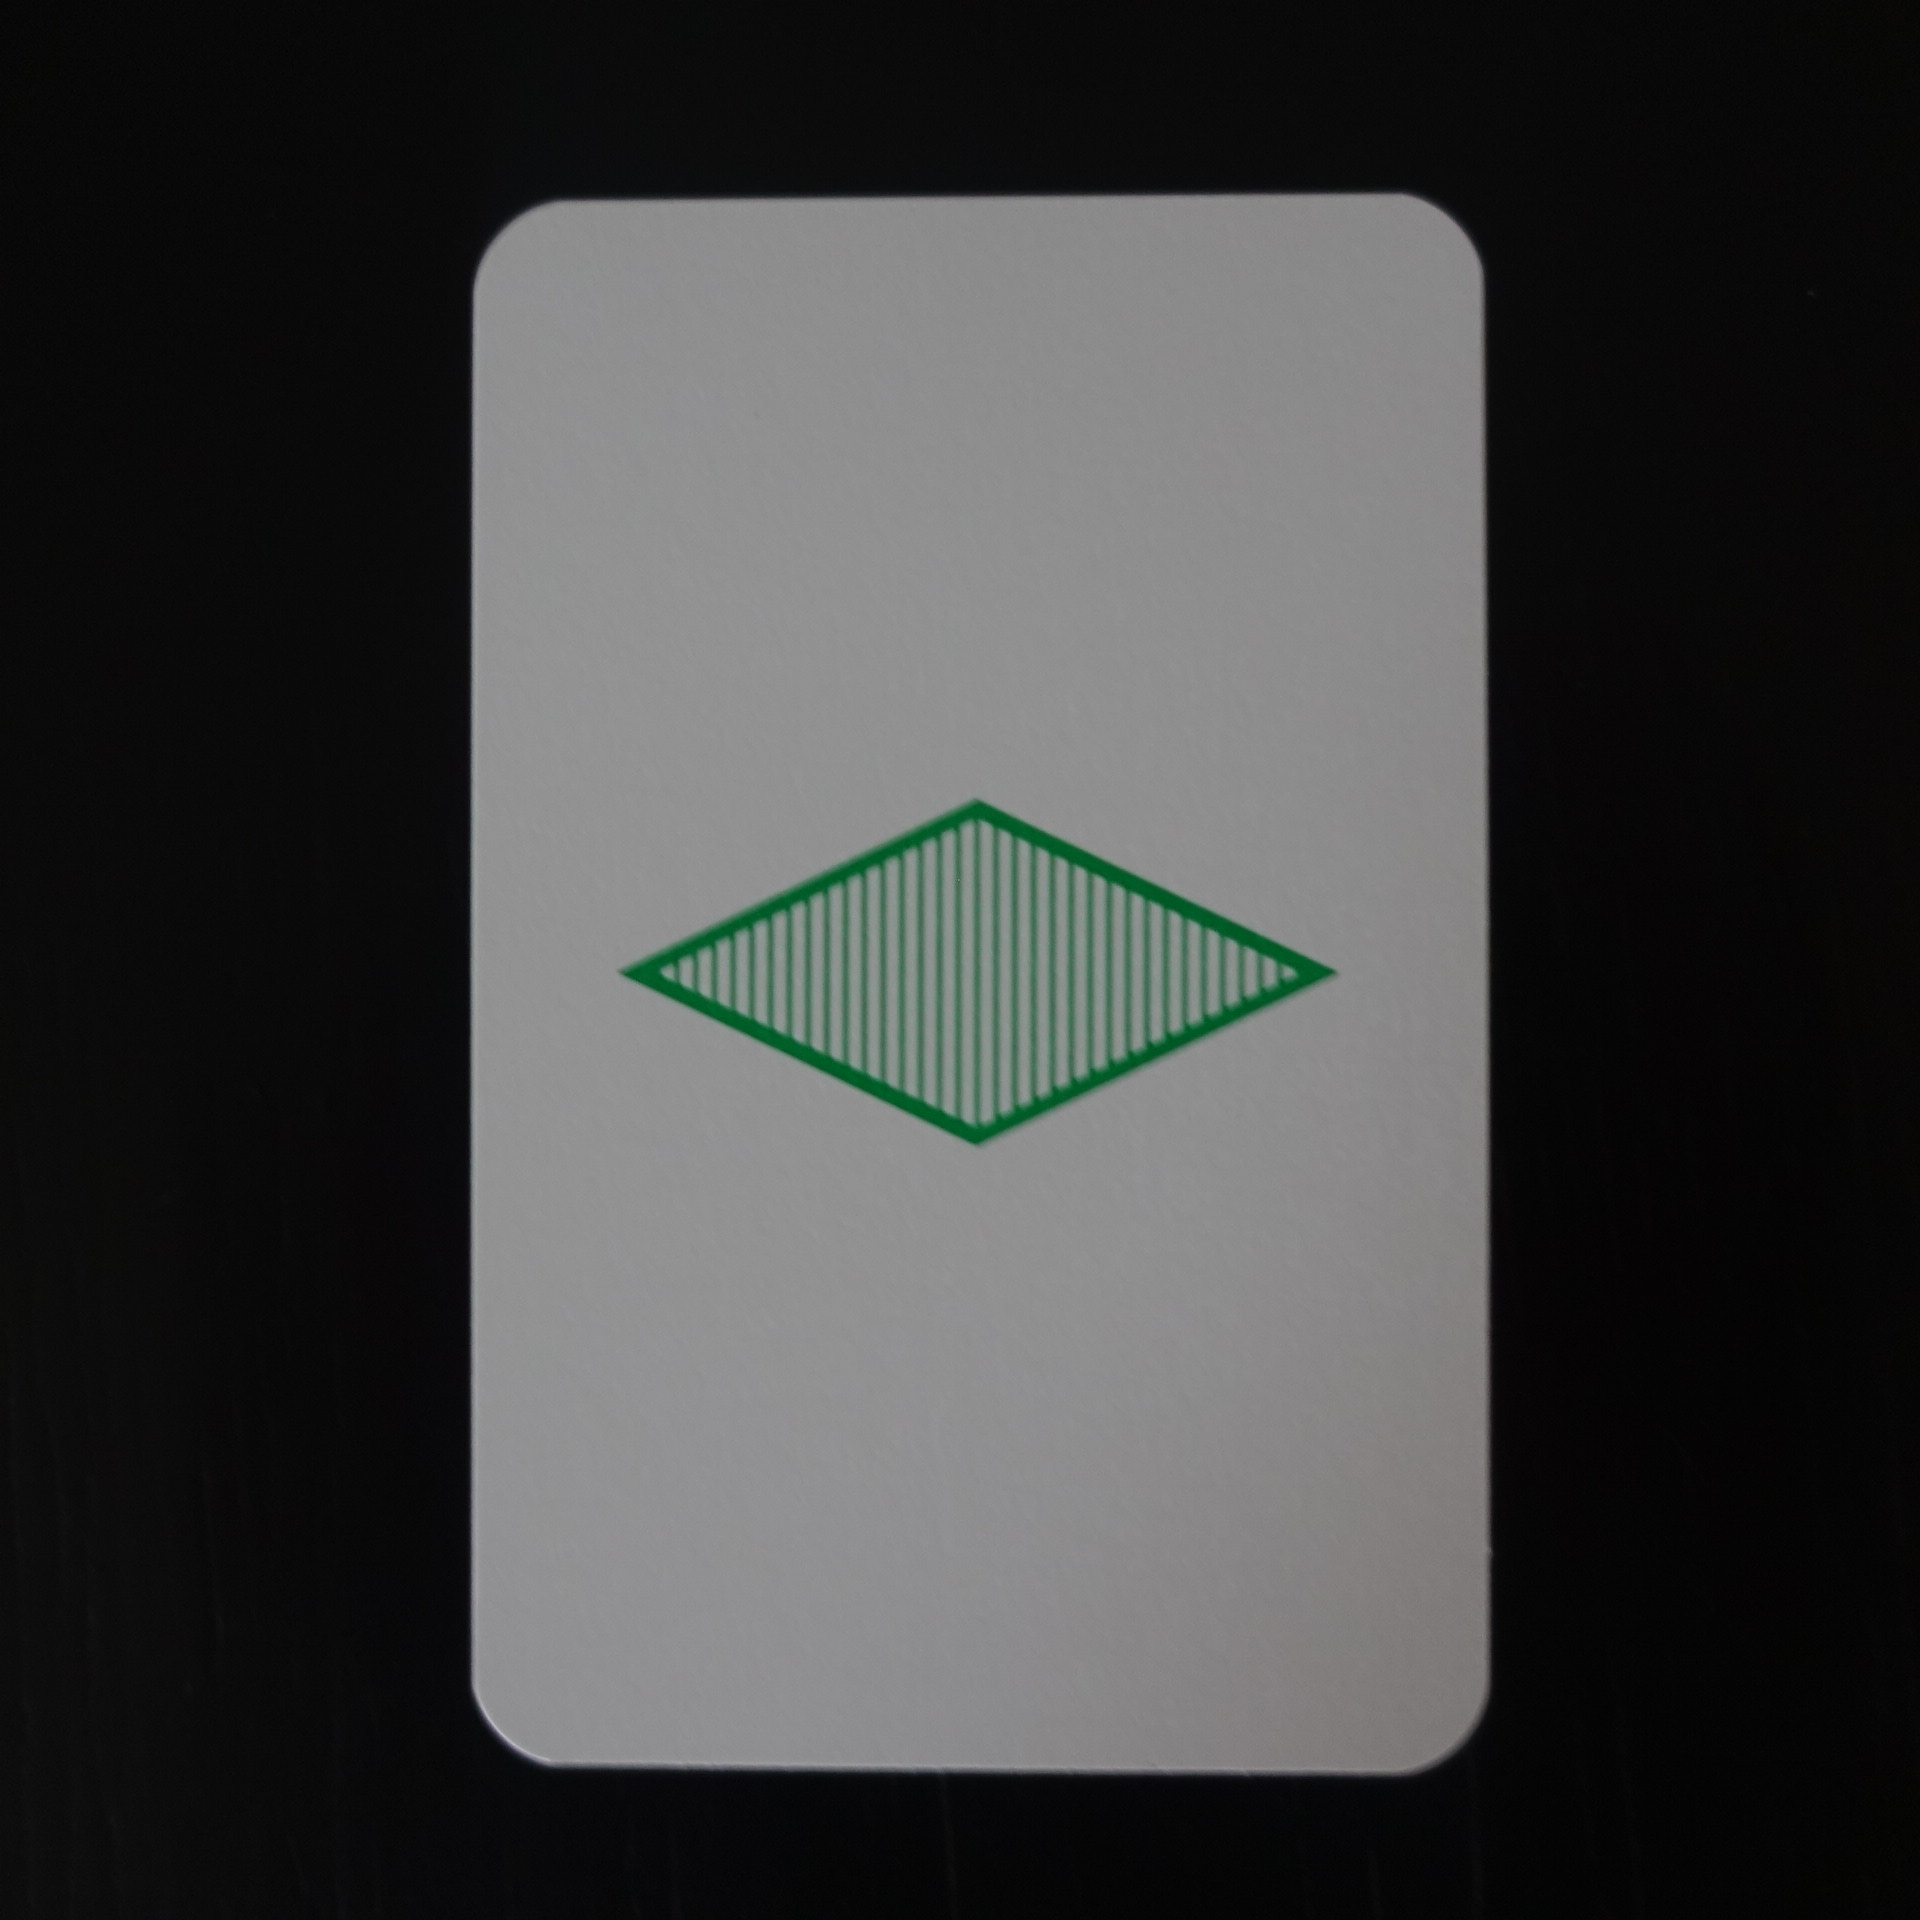c-2-f-d-r: (433, 160, 1530, 1795)
